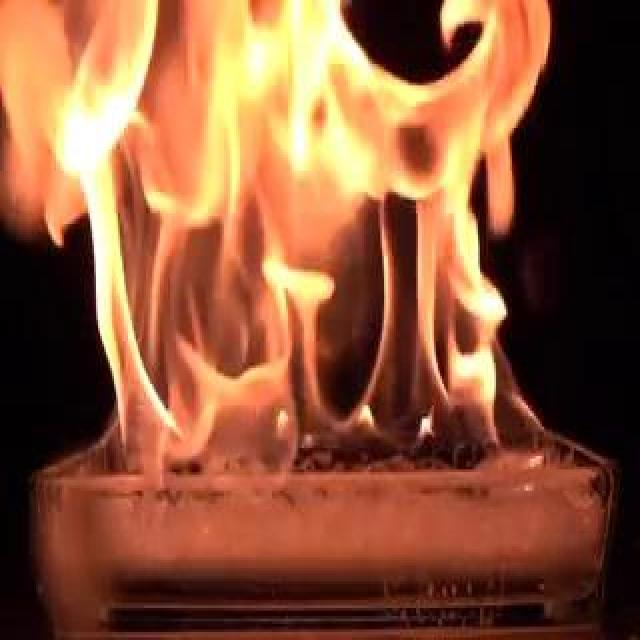Fire: (36, 3, 576, 488)
